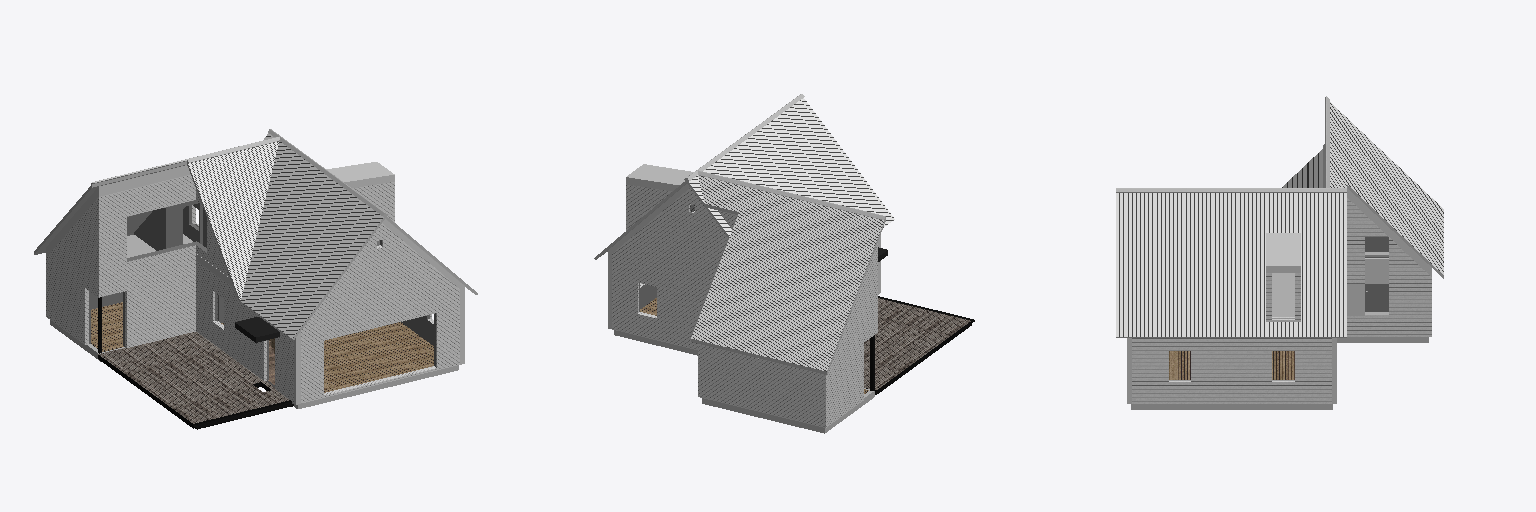
The picture shows the model from 3 angles: view 1: azimuth 30°, elevation 25°; view 2: azimuth 150°, elevation 25°; view 3: azimuth 270°, elevation 25°; orthographic projection.
Visible parts, largest first — view 1: UNITY_Bois_Blanc_Horizontal_Existant_2, UNITY_Taule_4"_90deg, UNITY_Plancher_Bois_Gris_90deg, UNITY_Plafond_Planche_Cedre, UNITY_Blanc, UNITY_Gypsum_Wall_Board, UNITY_Gris, UNITY_Aluminex_Frame, UNITY_Crete, UNITY_Taule; view 2: UNITY_Taule_4"_90deg, UNITY_Bois_Blanc_Horizontal_Existant_2, UNITY_Plancher_Bois_Gris_90deg, UNITY_Gris, UNITY_Blanc, UNITY_Crete, UNITY_Aluminex_Frame; view 3: UNITY_Taule_4"_90deg, UNITY_Bois_Blanc_Horizontal_Existant_2, UNITY_Blanc, UNITY_Gris, UNITY_Crete, UNITY_Plafond_Planche_Cedre, UNITY_Gypsum_Wall_Board, UNITY_Plafond_Planche_Large.
Part boxes in pixels (bbox=[...]): UNITY_Bois_Blanc_Horizontal_Existant_2: bbox=[46, 175, 459, 402]; UNITY_Taule_4"_90deg: bbox=[188, 133, 383, 338]; UNITY_Plancher_Bois_Gris_90deg: bbox=[98, 332, 288, 423]; UNITY_Plafond_Planche_Cedre: bbox=[91, 302, 433, 392]; UNITY_Blanc: bbox=[46, 162, 464, 404]; UNITY_Gypsum_Wall_Board: bbox=[89, 200, 435, 379]; UNITY_Gris: bbox=[34, 161, 477, 408]; UNITY_Aluminex_Frame: bbox=[98, 297, 293, 429]; UNITY_Crete: bbox=[91, 129, 387, 216]; UNITY_Taule: bbox=[235, 317, 279, 342]; UNITY_Taule_4"_90deg: bbox=[689, 98, 894, 371]; UNITY_Bois_Blanc_Horizontal_Existant_2: bbox=[612, 184, 877, 427]; UNITY_Plancher_Bois_Gris_90deg: bbox=[864, 298, 970, 389]; UNITY_Gris: bbox=[594, 180, 893, 433]; UNITY_Blanc: bbox=[608, 164, 880, 328]; UNITY_Crete: bbox=[684, 94, 885, 220]; UNITY_Aluminex_Frame: bbox=[866, 296, 974, 394]; UNITY_Taule_4"_90deg: bbox=[1116, 102, 1443, 336]; UNITY_Bois_Blanc_Horizontal_Existant_2: bbox=[1132, 198, 1431, 403]; UNITY_Blanc: bbox=[1127, 188, 1431, 403]; UNITY_Gris: bbox=[1116, 185, 1443, 409]; UNITY_Crete: bbox=[1116, 96, 1346, 192]; UNITY_Plafond_Planche_Cedre: bbox=[1169, 351, 1294, 379]; UNITY_Gypsum_Wall_Board: bbox=[1365, 237, 1388, 311]; UNITY_Plafond_Planche_Large: bbox=[1272, 273, 1294, 316].
Bounding box in the file's own units: 41.1 × 25.43 × 41.37.
23 materials, 7 textured.